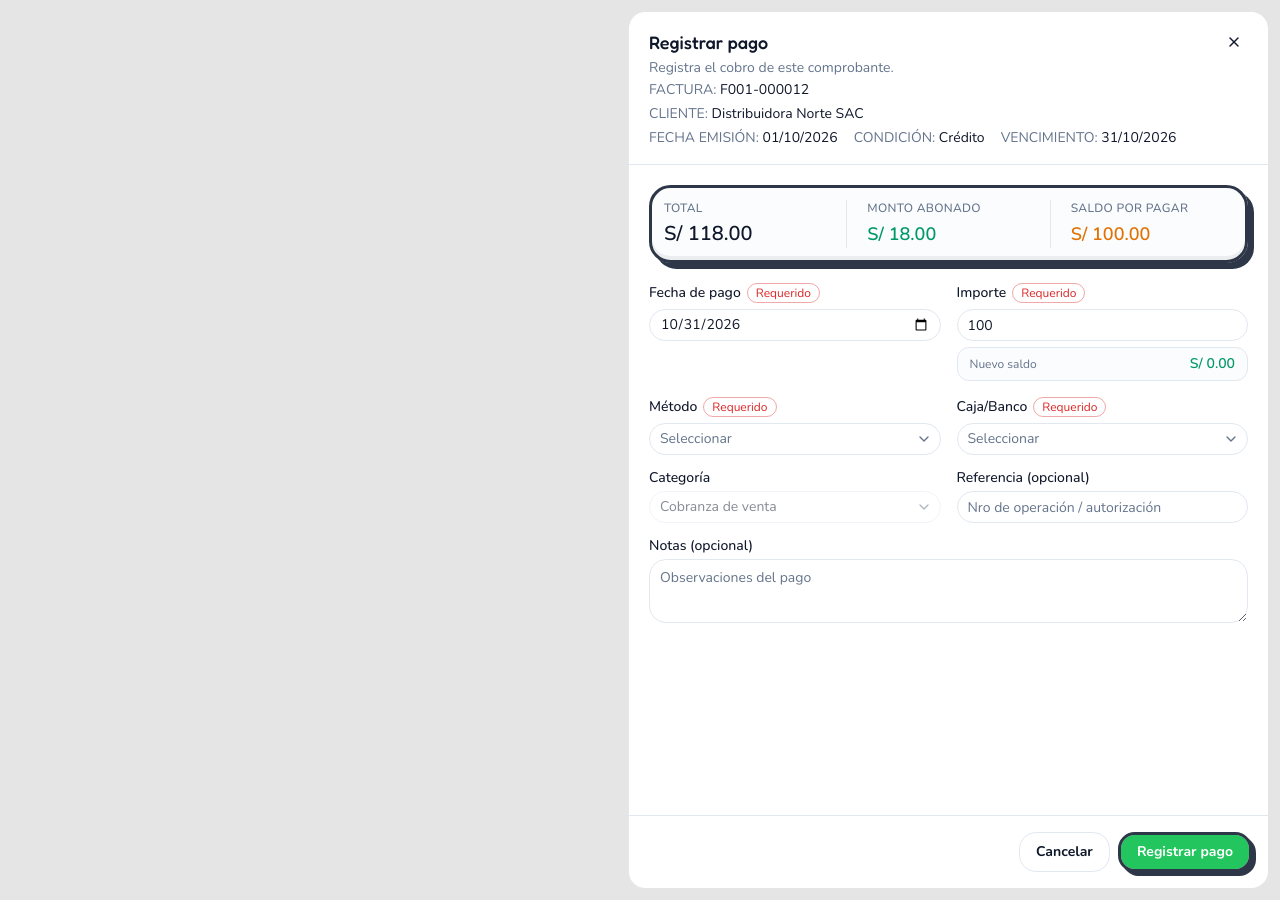
Test: PaymentDrawer › rechaza un importe mayor al saldo
The width and height of the screenshot is (1280, 900).
Replace the text in the number field labelled "Importe" with "150" at (1102, 325), box 956,309 -> 1248,341
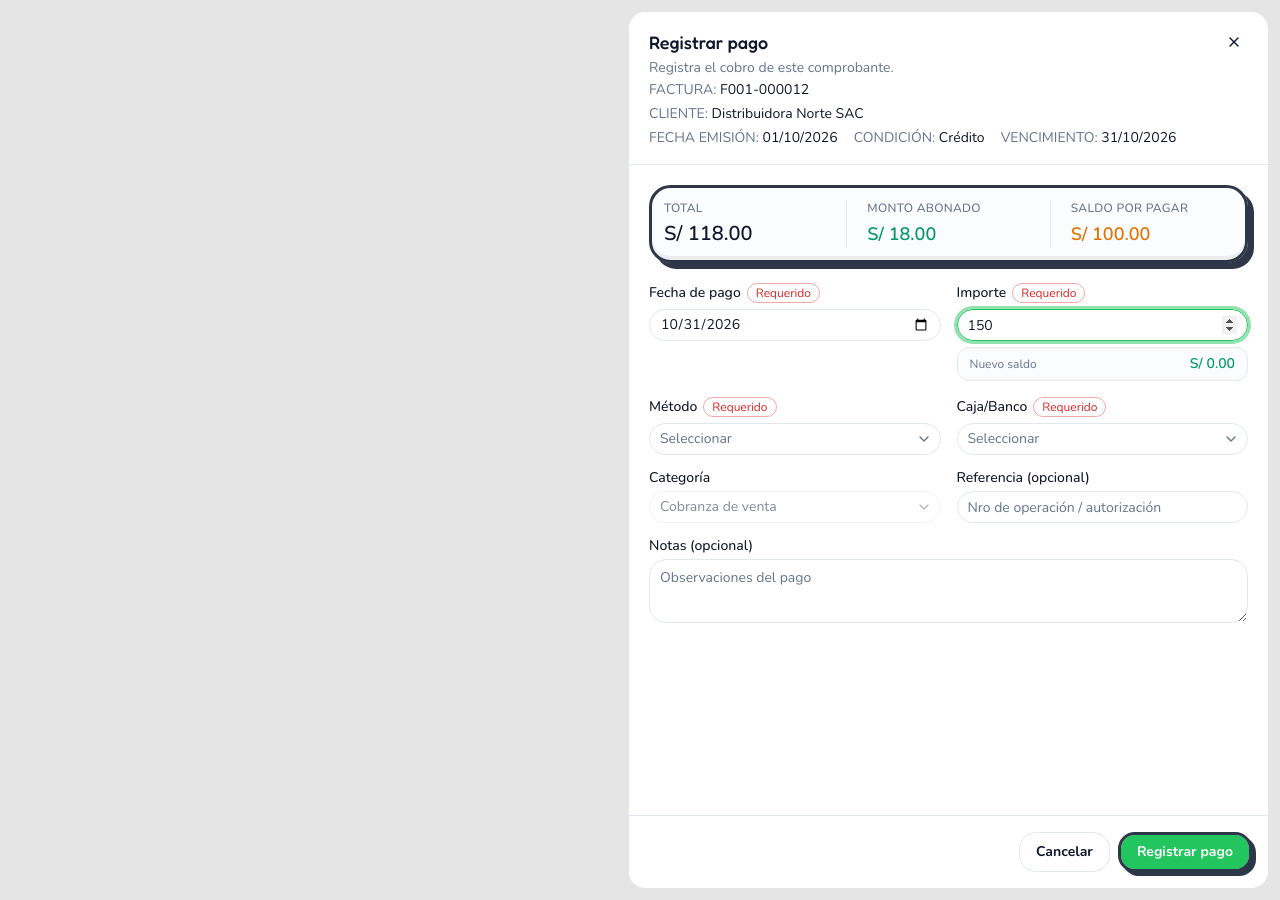
Click the dropdown named "Método".
click(696, 438)  # box 649,423 -> 940,455
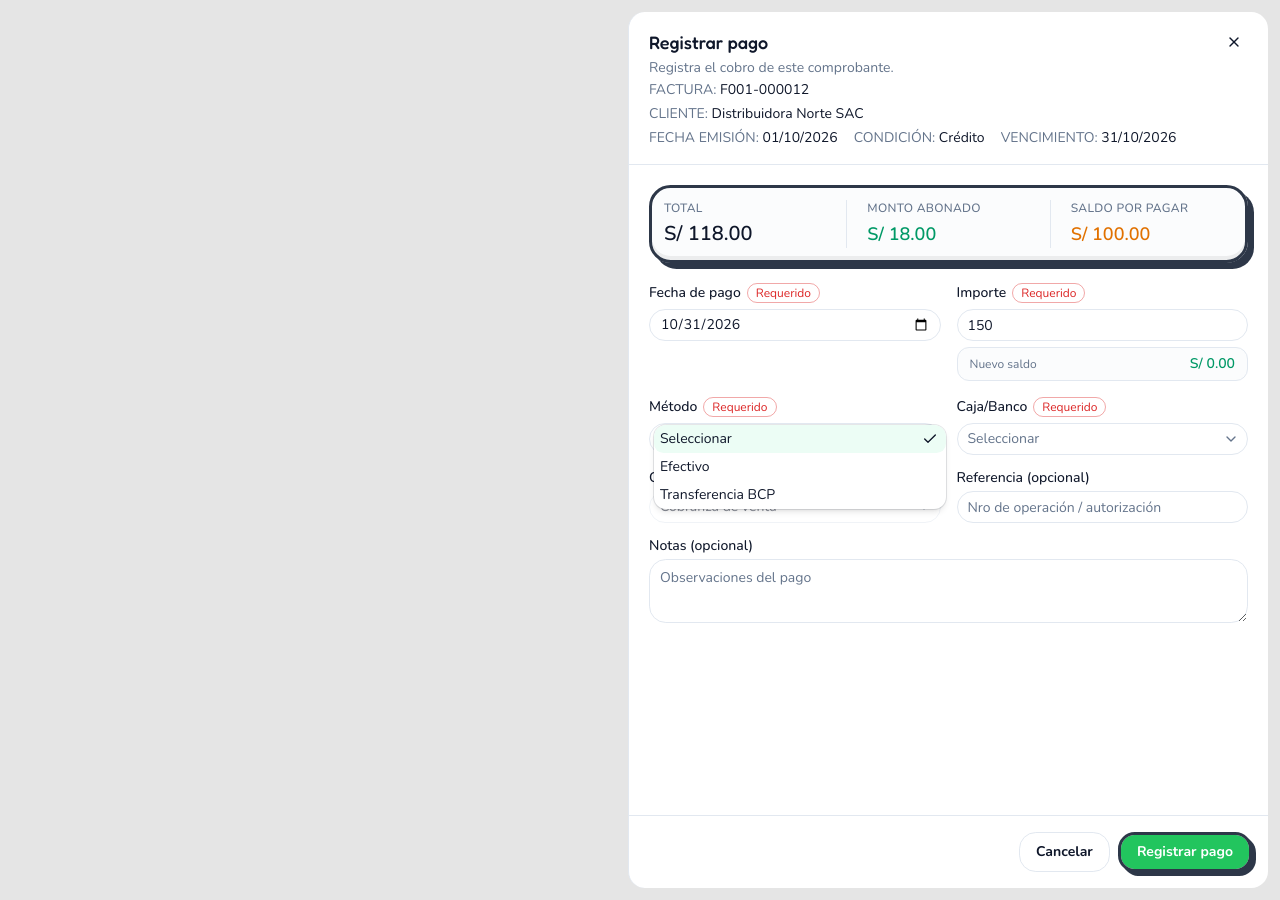
Click the option "Efectivo".
click(685, 466)  # box 660,457 -> 710,476
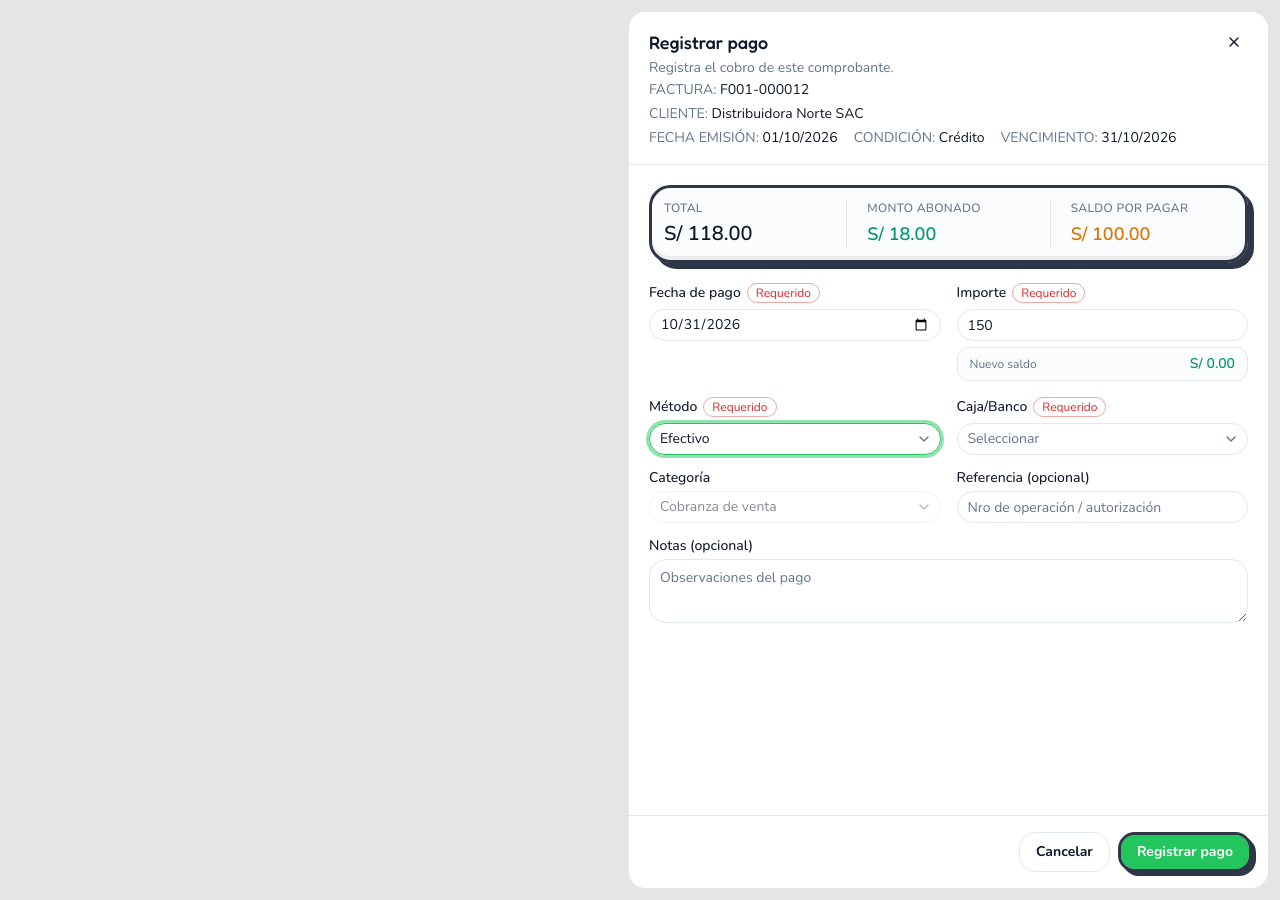
Click the dropdown named "Caja/Banco".
click(1003, 438)  # box 956,423 -> 1248,455
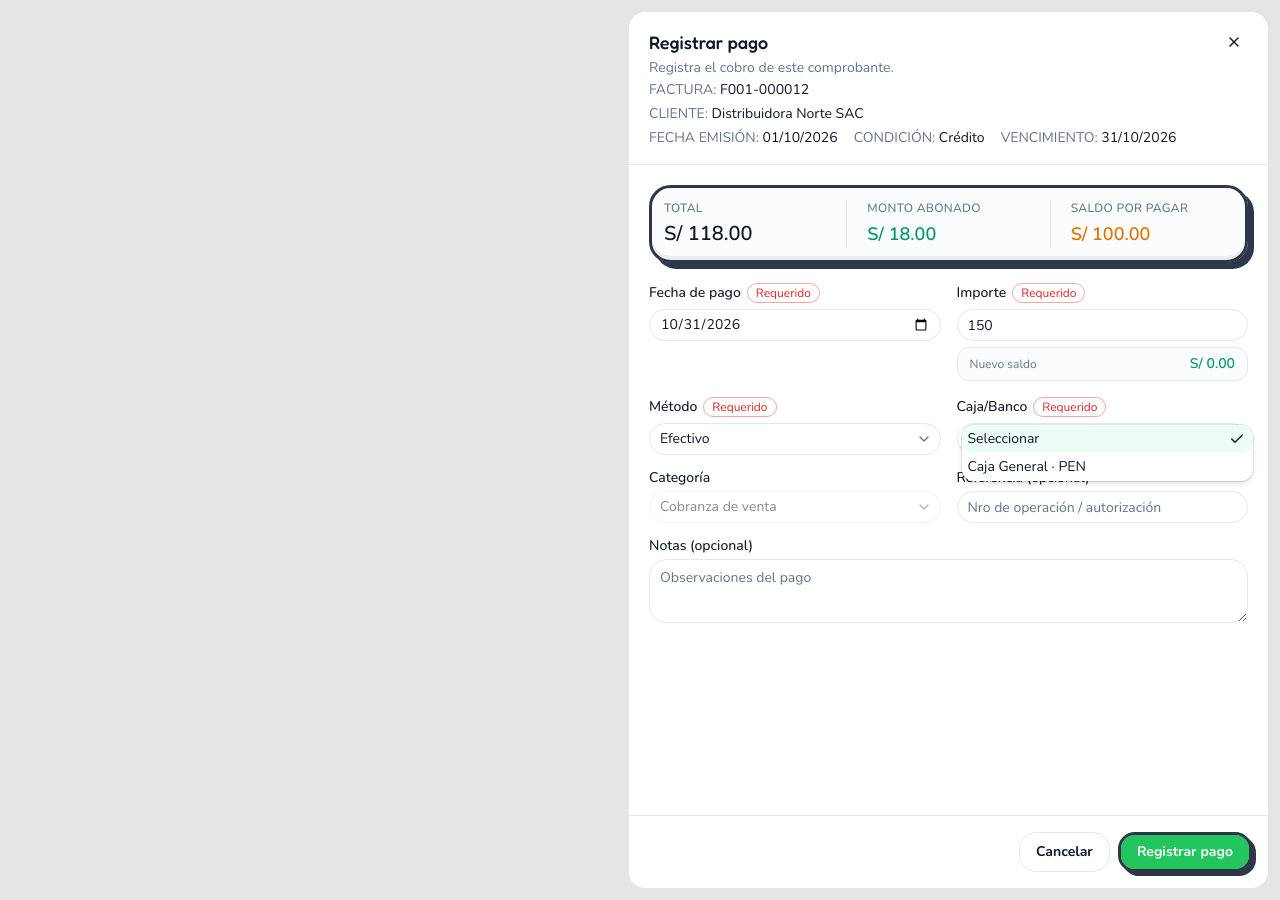
Click the option "Caja General · PEN".
click(1027, 466)  # box 968,457 -> 1086,476
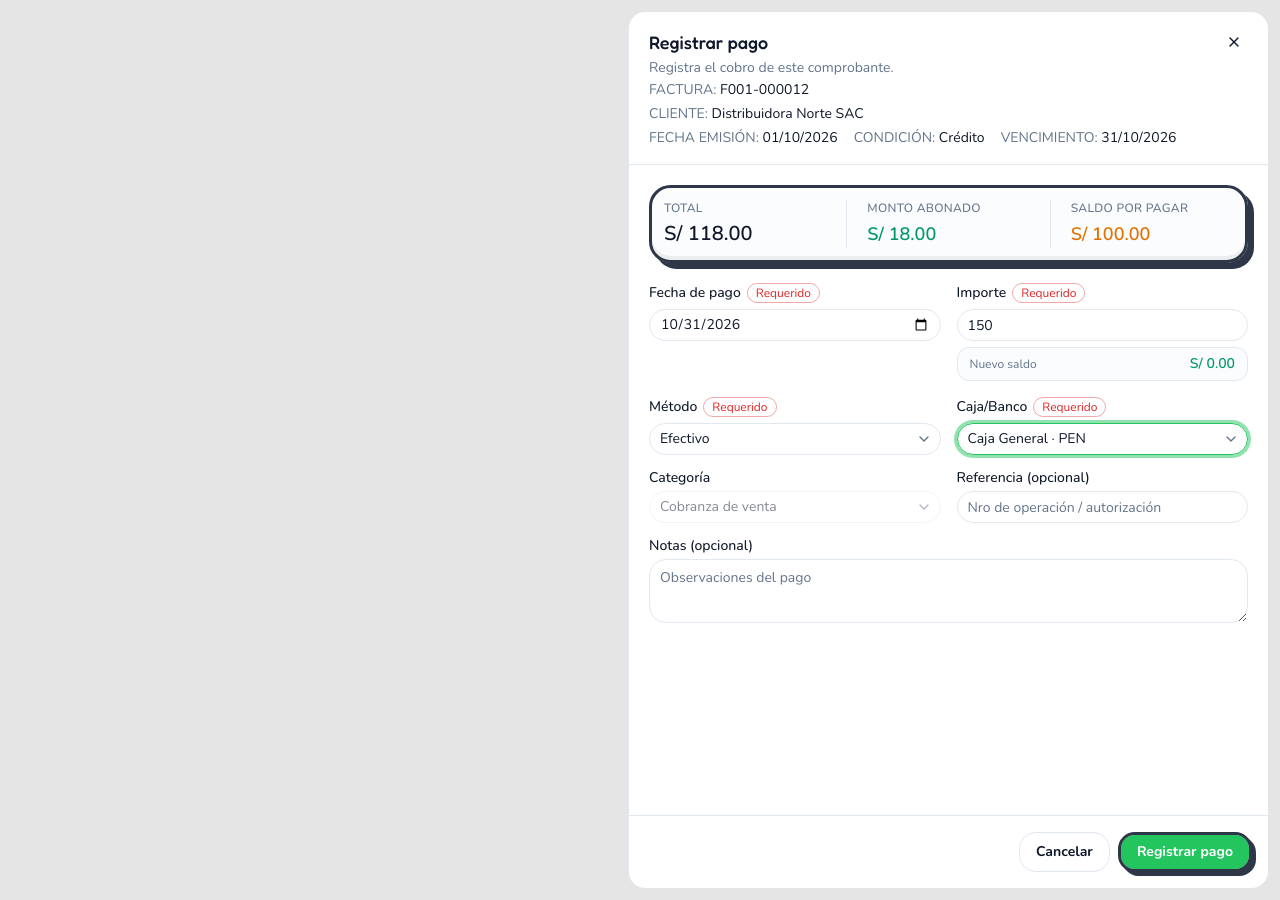
Click the button "Registrar pago".
click(1185, 852)  # box 1118,832 -> 1252,872
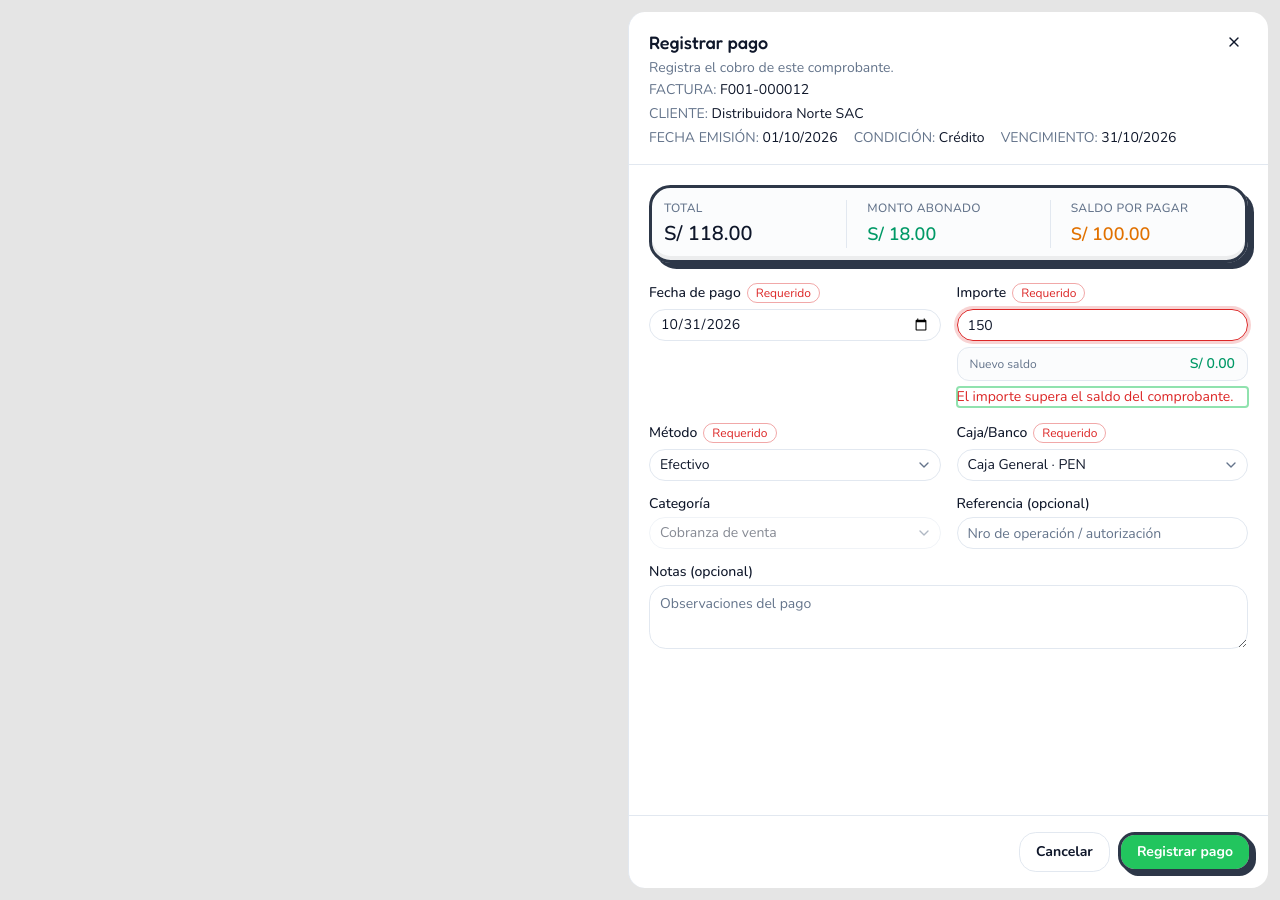
Check: the text "El importe supera el saldo del comprobante." is shown, box 956,387 -> 1248,407
